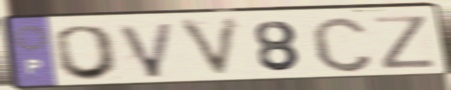8: (252, 19, 304, 74)
C: (308, 13, 377, 74)
O: (52, 23, 124, 82)
V: (175, 15, 245, 81), (114, 20, 178, 80)
Z: (371, 13, 440, 71)
